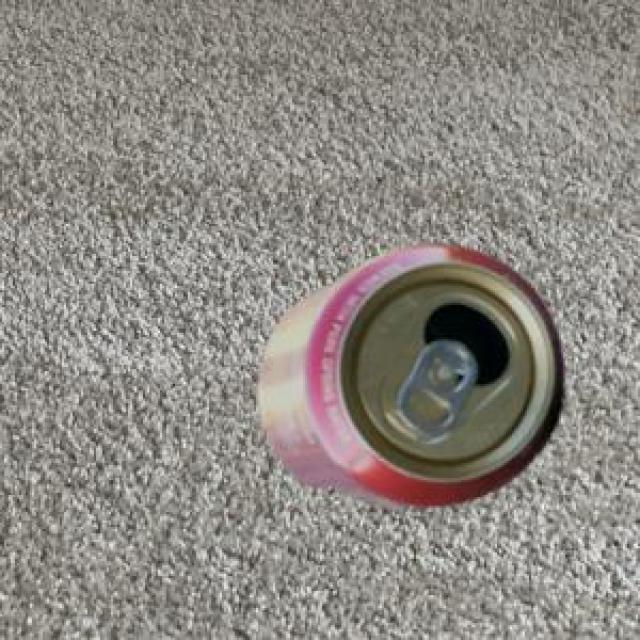logam: (255, 240, 560, 502)
